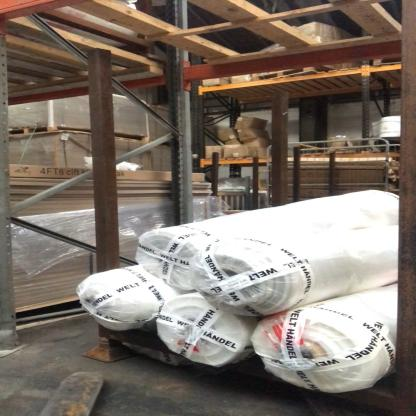vertical_damage: (1, 318, 29, 356)
